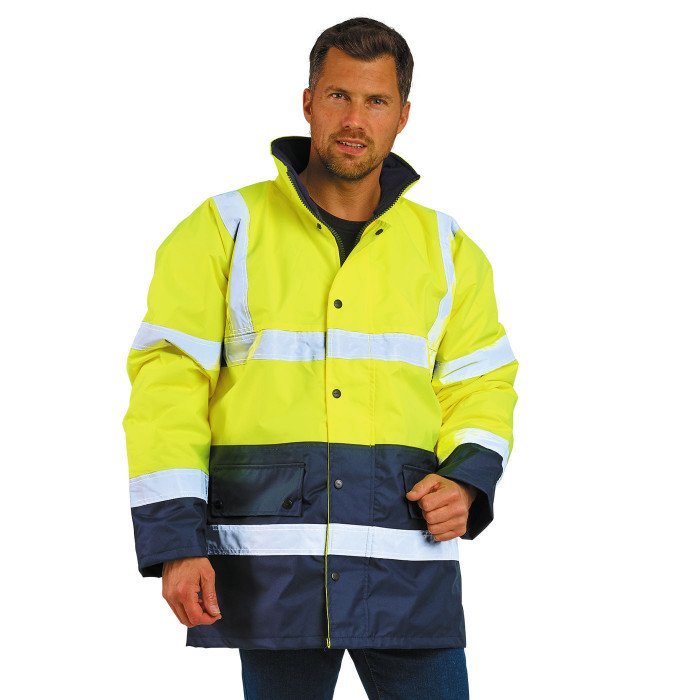sansCasque: (153, 3, 516, 404)
